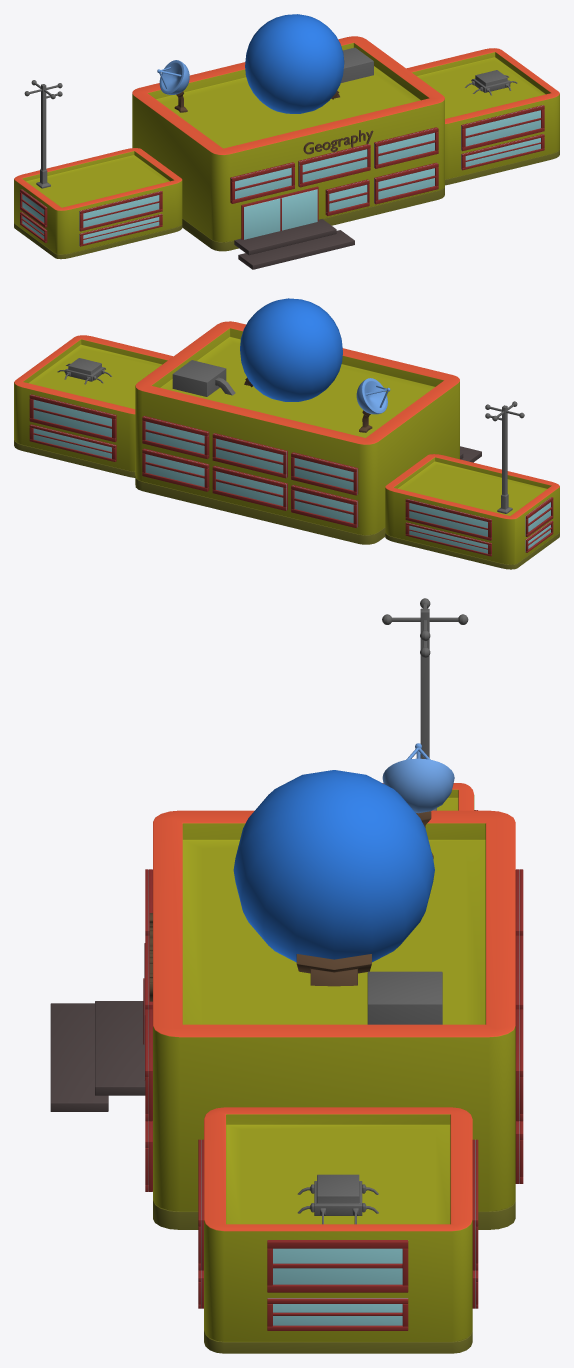
Rendered from Predio_geography_nivel_03.fbx.
3 renders of one model, top to bottom at view 1: azimuth 30°, elevation 25°; view 2: azimuth 150°, elevation 25°; view 3: azimuth 270°, elevation 25°, orthographic. The views are drawn at different scales.
Visible parts, largest first — view 1: Predio_geography_nivel_03, Janelas_predio_Geo_03, Texto_Geo_nivel_03; view 2: Predio_geography_nivel_03, Janelas_predio_Geo_03; view 3: Predio_geography_nivel_03, Janelas_predio_Geo_03.
Boxes of the visible parts, <box> form: Predio_geography_nivel_03: <box>14,14,559,269</box>; Janelas_predio_Geo_03: <box>20,47,544,246</box>; Texto_Geo_nivel_03: <box>303,130,373,154</box>; Predio_geography_nivel_03: <box>14,298,559,569</box>; Janelas_predio_Geo_03: <box>29,360,553,556</box>; Predio_geography_nivel_03: <box>50,598,515,1353</box>; Janelas_predio_Geo_03: <box>143,810,523,1330</box>.
Bounding box in the file's own units: 3125 × 1047 × 1306.
